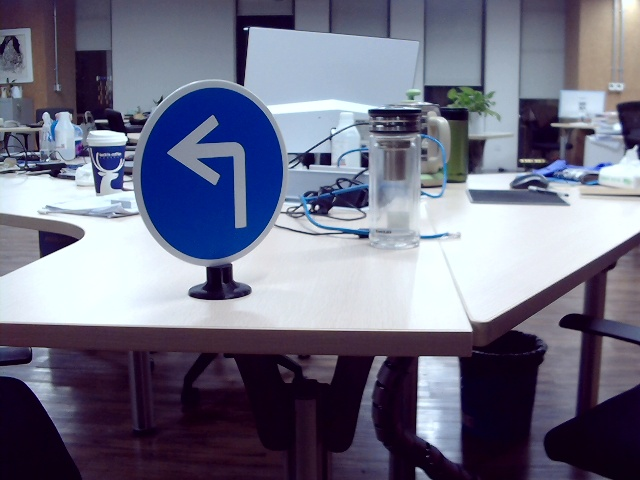turn_left: (166, 111, 260, 230)
